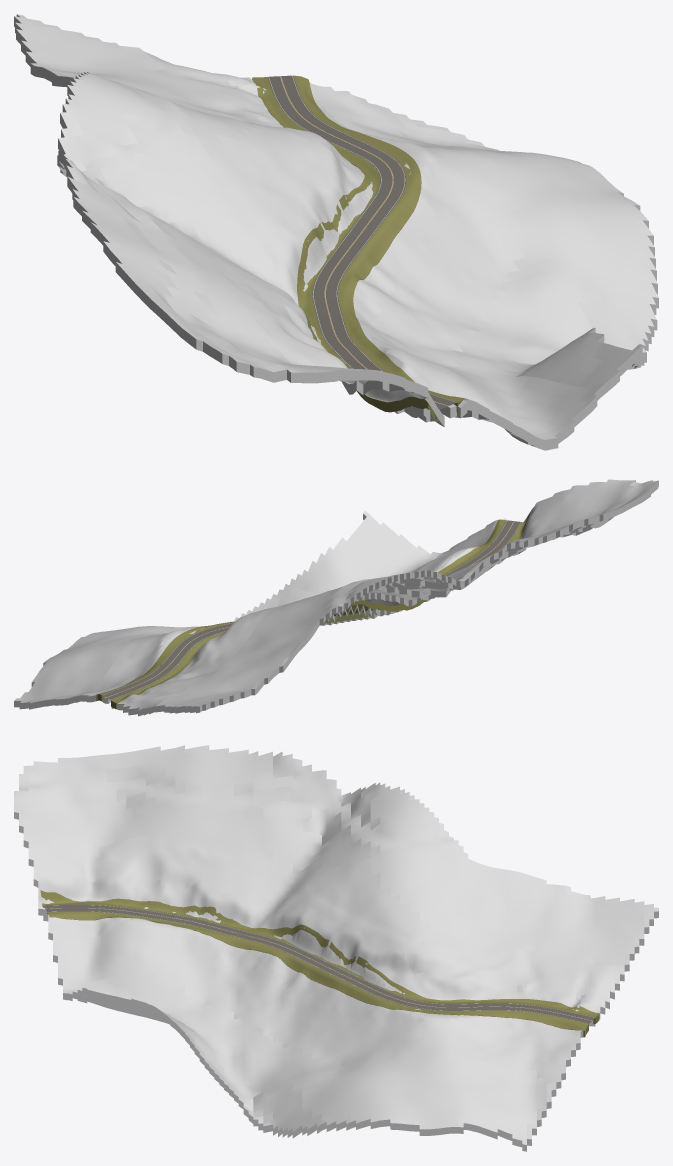
The model's file is conz_181.glb.
The picture shows the model from 3 angles, top to bottom: view 1: azimuth 30°, elevation 25°; view 2: azimuth 150°, elevation 25°; view 3: azimuth 270°, elevation 25°; orthographic projection. The views are drawn at different scales.
Parts seen in each view (by area): view 1: terrain181, road181, verge181L, verge181R, paint_white181, paint_yellow181; view 2: terrain181, road181, verge181R, verge181L; view 3: terrain181, road181, verge181L, verge181R.
Boxes of the visible parts, x1,y1,x2,y2 form: terrain181: (14, 14, 658, 450); road181: (267, 75, 457, 409); verge181L: (293, 75, 468, 412); verge181R: (252, 77, 439, 421); paint_white181: (268, 75, 456, 409); paint_yellow181: (280, 76, 448, 405); terrain181: (14, 479, 658, 716); road181: (102, 520, 521, 699); verge181R: (111, 513, 530, 709); verge181L: (96, 519, 506, 701); terrain181: (14, 745, 658, 1151); road181: (43, 904, 594, 1023); verge181L: (47, 911, 588, 1037); verge181R: (40, 890, 599, 1024).
Size of the model in its own units: 214 by 93.45 by 264.
